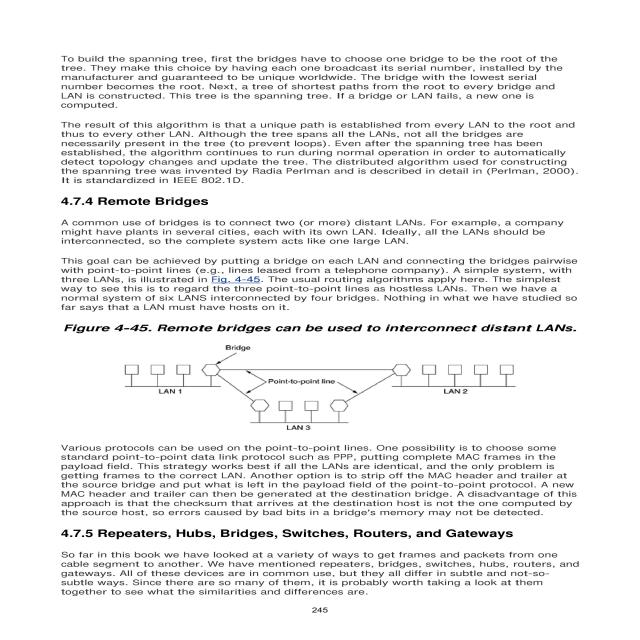diagram: (17, 318, 625, 434)
